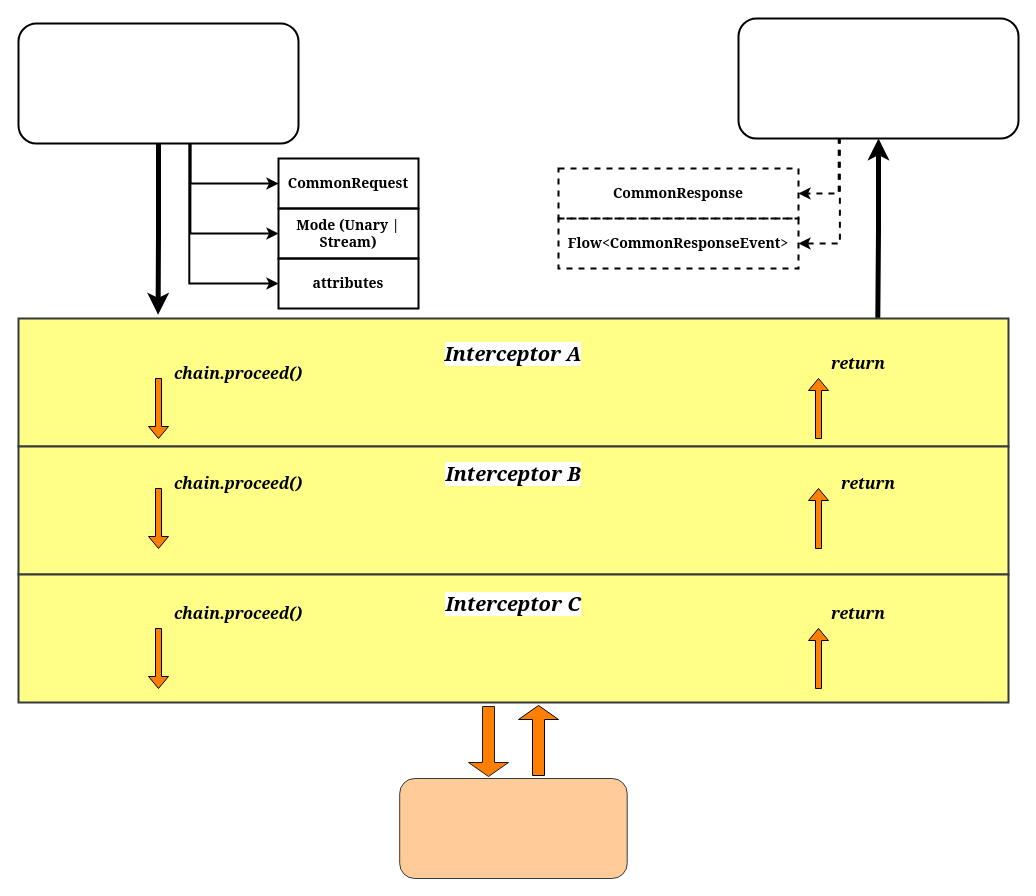
The diagram is 1036 pixels wide and 896 high, and some of its shapes have lost their labels. Here are the shapes that lost their labels. From the top down, the centre of each, then its label:
At (x=158, y=83): "Gateway Context".
At (x=878, y=78): "Pipeline Result".
At (x=513, y=828): "InferenceServicePort".
